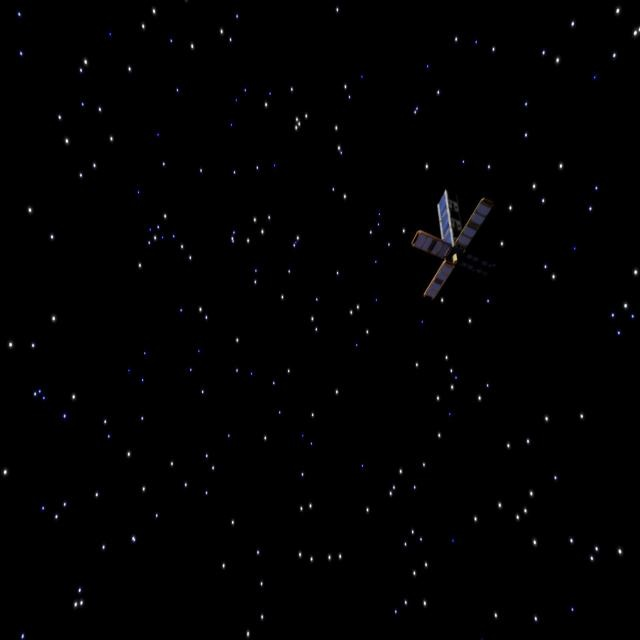satellite: (401, 178, 505, 310)
